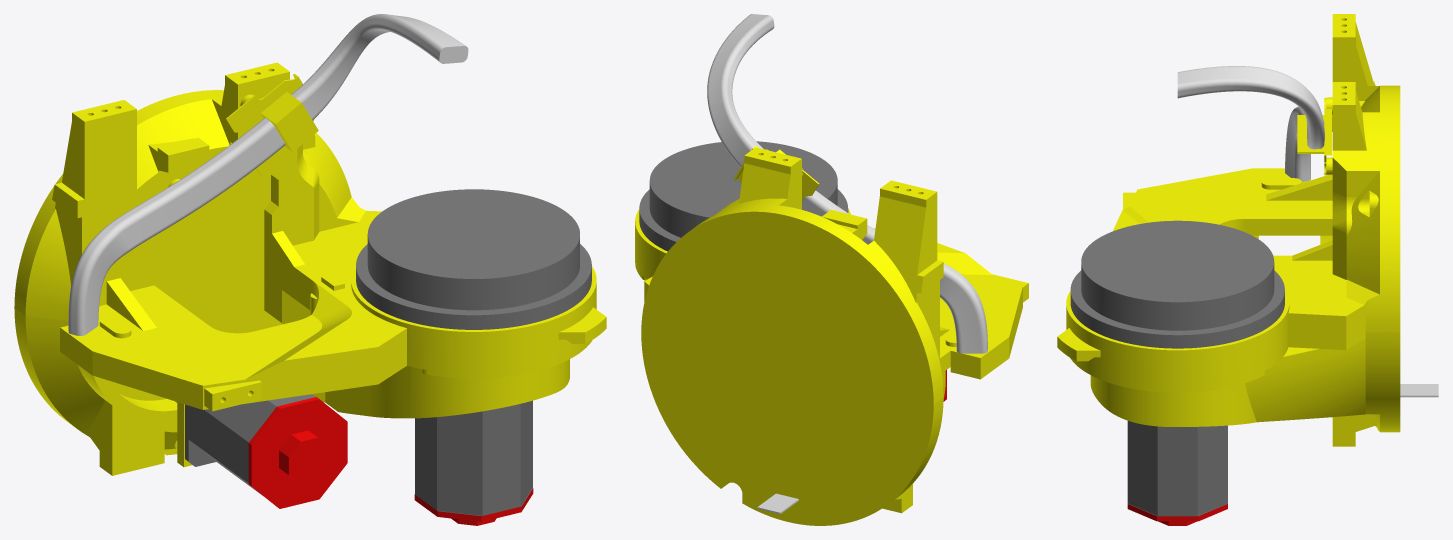
3 renders of one model, left to right at view 1: azimuth 30°, elevation 25°; view 2: azimuth 150°, elevation 25°; view 3: azimuth 270°, elevation 25°, orthographic. The views are drawn at different scales.
Visible parts, largest first — view 1: Mesh_0; view 2: Mesh_0; view 3: Mesh_0.
Boxes of the visible parts, <box> form: Mesh_0: <box>14,14,606,525</box>; Mesh_0: <box>635,14,1028,525</box>; Mesh_0: <box>1057,14,1438,525</box>.
Bounding box in the file's own units: 0.8116 × 0.8306 × 0.6599.
